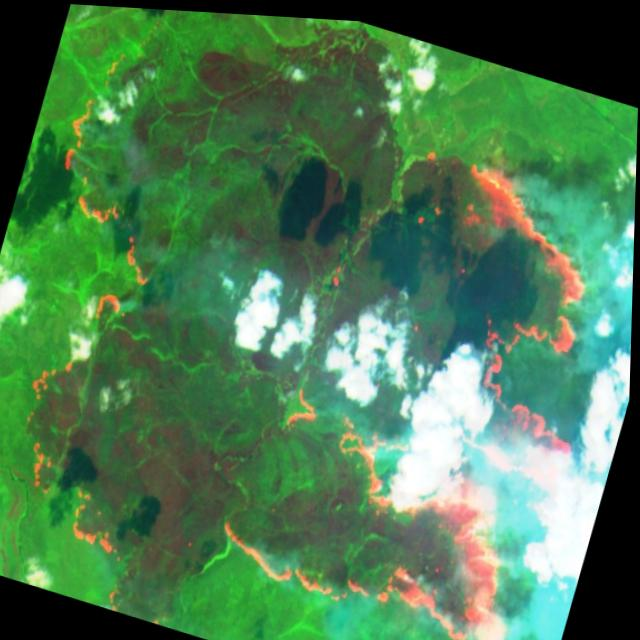fire: (0, 2, 640, 640)
